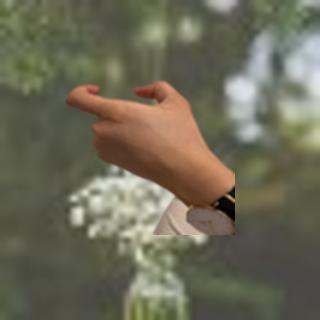HATE: (61, 78, 207, 190)
